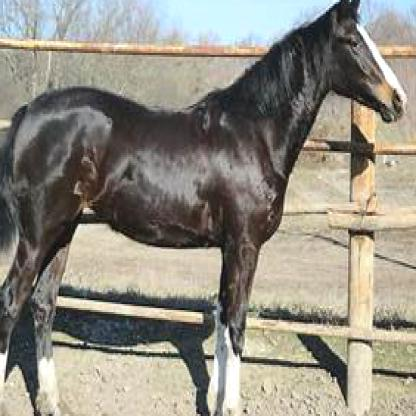horse: (2, 0, 408, 414)
